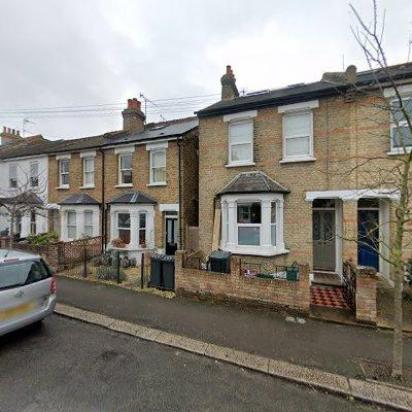stationary-car-onstreet: (0, 248, 58, 346)
